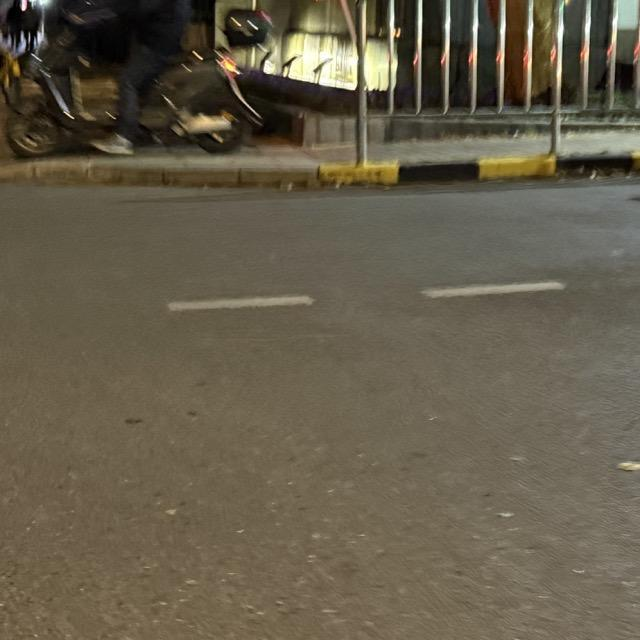curb: (0, 151, 639, 190)
